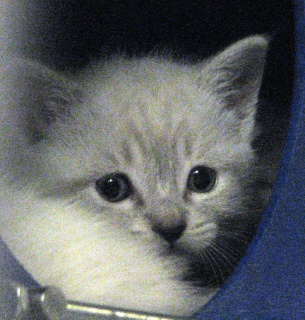Cat: (0, 33, 274, 319)
